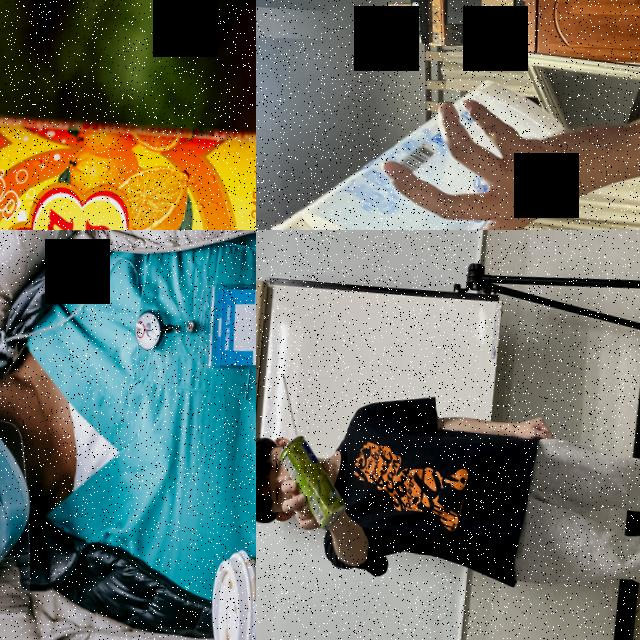can: (0, 101, 256, 230), (272, 432, 353, 532)
cup: (263, 61, 570, 230), (205, 541, 256, 640)
